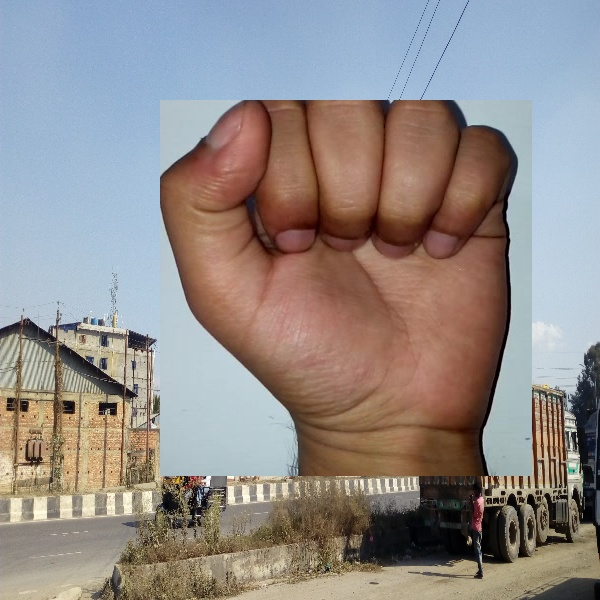A: (160, 100, 532, 476)
